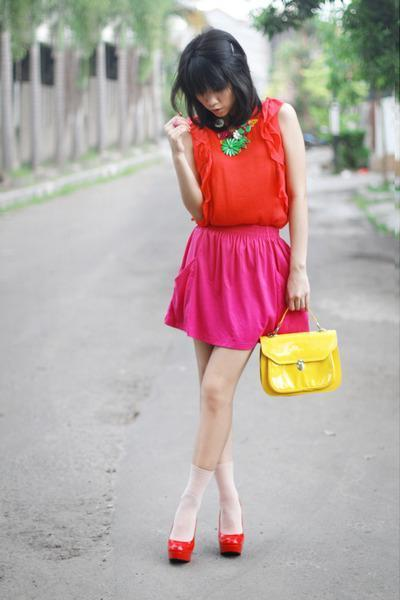short sleeve shirt: (187, 98, 294, 235)
skirt: (158, 224, 316, 352)
